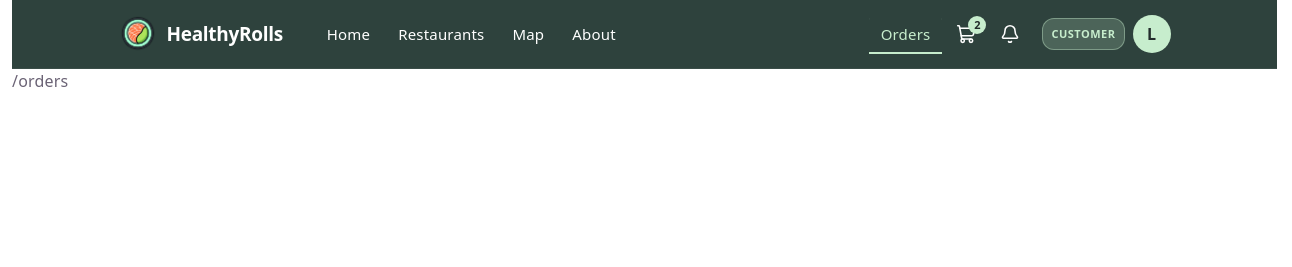
Test case: Navbar characterisation › shows the CUSTOMER account with the correct reset permission
Check: the text "Customer" is shown, box [1042,18,1124,50]
Click the button named "Account menu".
click(1152, 34)  # box [1132,15,1170,53]
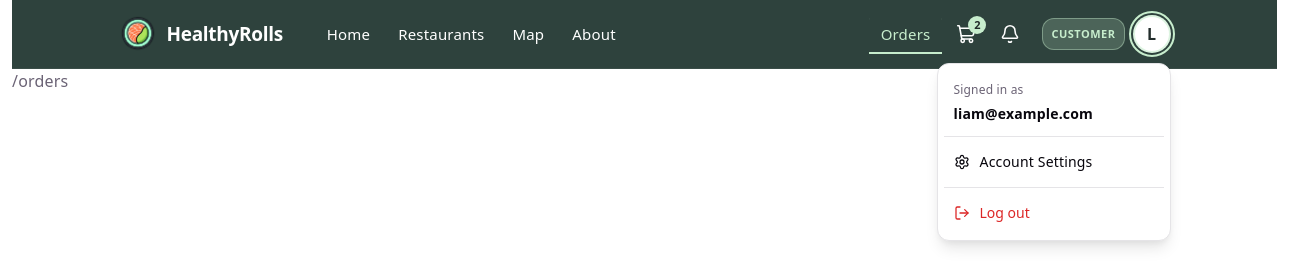
Check: the text "liam@example.com" is shown, box [954,104,1093,123]
Check: the menu item "Log out" is shown, box [944,192,1164,234]
